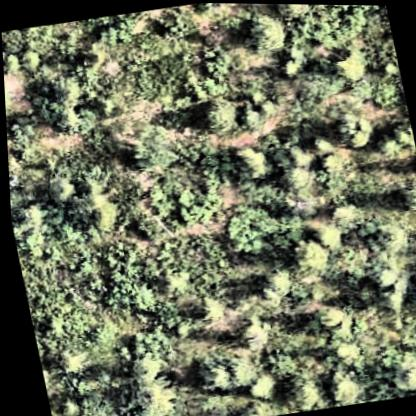tree-top: (117, 353, 180, 416), (218, 204, 279, 257), (28, 71, 82, 128), (119, 121, 171, 173), (65, 42, 110, 100), (80, 10, 139, 49), (183, 345, 229, 392), (275, 363, 319, 411), (242, 8, 284, 55), (81, 194, 125, 238), (233, 137, 278, 180), (330, 109, 377, 148), (369, 217, 413, 255), (199, 98, 240, 138), (315, 149, 355, 188), (288, 236, 327, 276), (10, 198, 49, 237), (41, 169, 77, 207), (329, 48, 367, 83), (51, 340, 84, 380), (257, 263, 292, 300), (48, 206, 82, 244), (386, 350, 416, 393), (5, 112, 35, 154), (120, 277, 154, 313), (321, 373, 360, 404), (368, 126, 402, 160), (361, 255, 399, 285), (282, 158, 315, 192), (240, 372, 274, 402), (271, 52, 305, 81), (48, 388, 79, 416), (16, 47, 44, 78), (315, 223, 344, 251), (394, 174, 416, 208), (274, 3, 314, 16), (3, 81, 15, 120), (413, 287, 416, 312)
